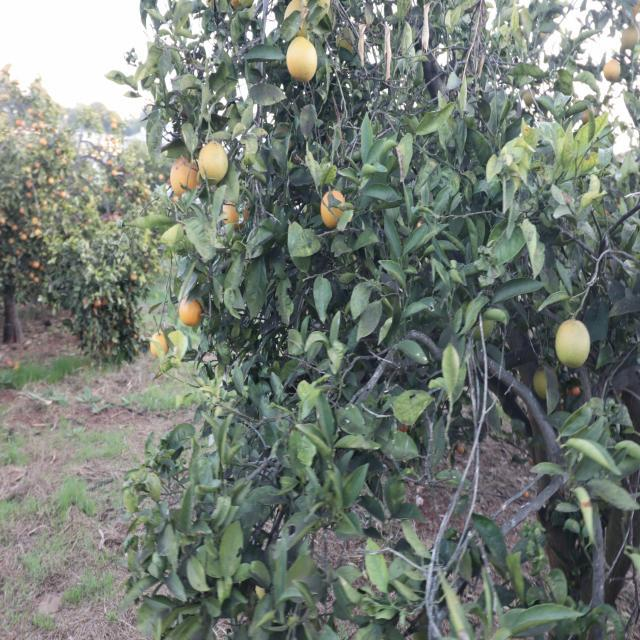Jeruk Belum Matang: (556, 318, 592, 368), (287, 36, 318, 82), (198, 138, 228, 184), (466, 298, 495, 340), (534, 367, 558, 399)
Jeruk Sudah Matang: (170, 158, 200, 194), (321, 191, 346, 229), (222, 200, 248, 228), (179, 298, 202, 326), (150, 332, 168, 358), (603, 60, 620, 80)
